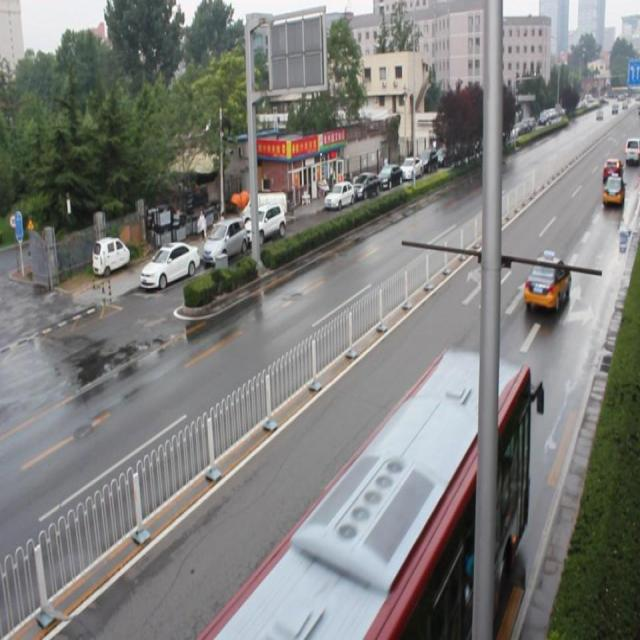car: (524, 248, 570, 312), (601, 171, 623, 207)
van: (200, 346, 543, 628)
